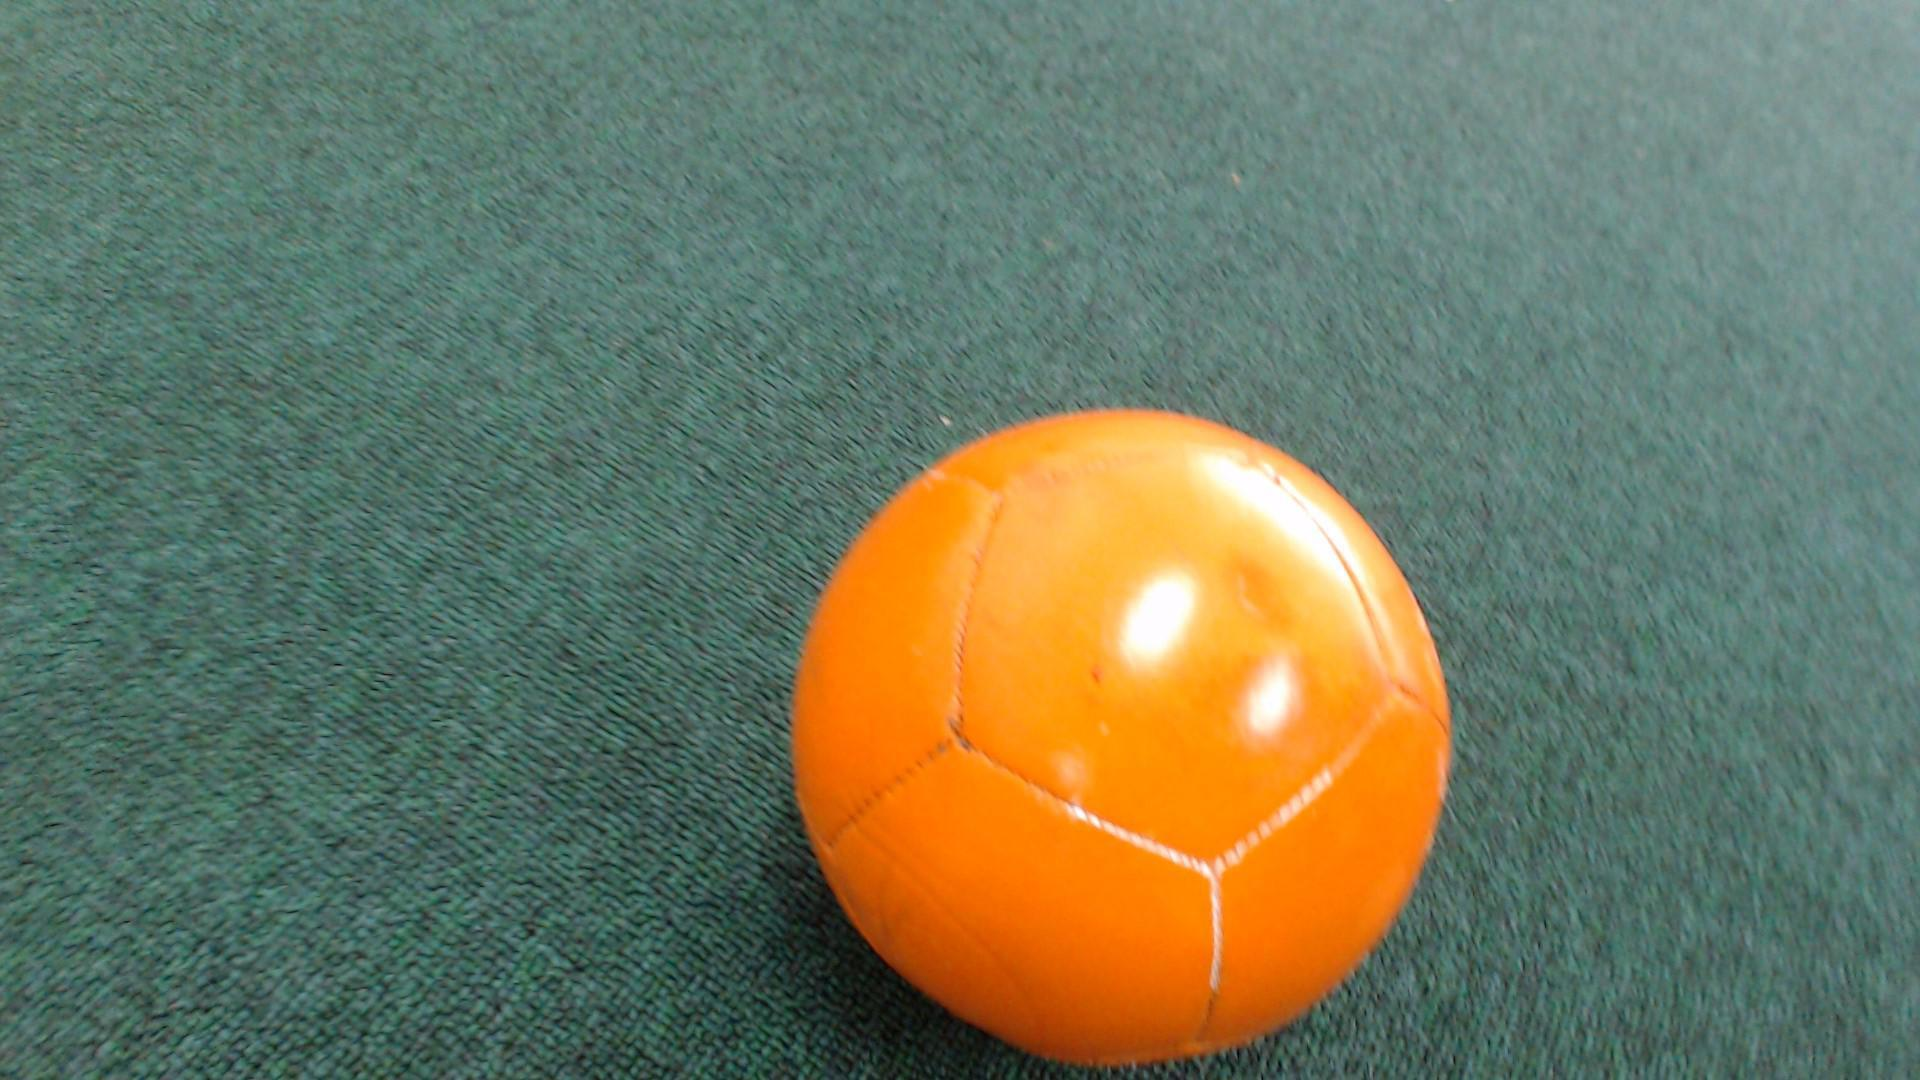bola: (735, 375, 1494, 1079)
